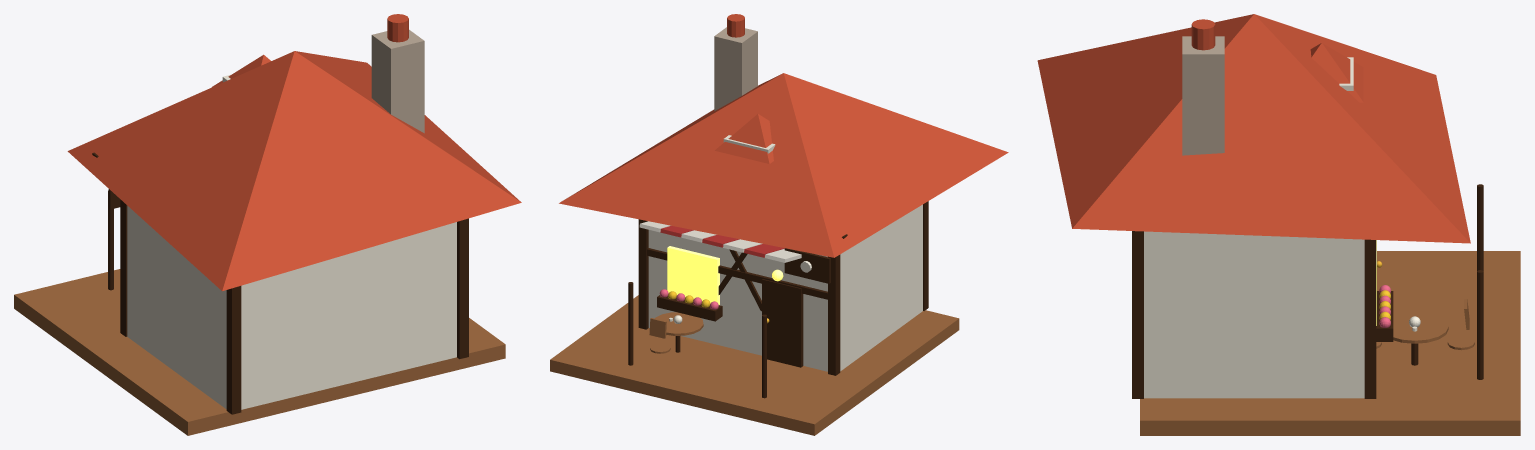
File: cafe.glb
The picture shows the model from 3 angles, left to right: view 1: azimuth 30°, elevation 25°; view 2: azimuth 150°, elevation 25°; view 3: azimuth 270°, elevation 25°; orthographic projection. The views are drawn at different scales.
Parts seen in each view (by area): view 1: CafeRoof, CafeBody, CafeDeck, ChimneyBody, CornerBeam_B_-3.4, CornerBeam_B_3.4, CornerBeam_-3.4, ChimneyPot, AwningPost_-2.4; view 2: CafeRoof, CafeDeck, CafeBody, FrontDoor, ChimneyBody, CafeWindow, DormerRoof, CornerBeam_-3.4, CornerBeam_3.4, CafeSignBoard, BeamMidFront, FlowerBox (+3 smaller); view 3: CafeRoof, CafeBody, CafeDeck, ChimneyBody, CornerBeam_3.4, CornerBeam_B_3.4, DormerRoof, BistroTableTop, AwningPost_2.4, ChimneyPot, AwningPost_-2.4, FlowerBox.
Boxes of the visible parts, x1,y1,x2,y2 form: CafeRoof: (67, 51, 521, 291); CafeBody: (127, 206, 456, 409); CafeDeck: (14, 269, 505, 435); ChimneyBody: (371, 29, 424, 133); CornerBeam_B_-3.4: (226, 286, 241, 414); CornerBeam_B_3.4: (457, 218, 468, 359); CornerBeam_-3.4: (120, 199, 127, 336); ChimneyPot: (387, 14, 408, 42); AwningPost_-2.4: (108, 190, 113, 290); CafeRoof: (559, 73, 1008, 257); CafeDeck: (550, 295, 959, 435); CafeBody: (648, 204, 922, 371); FrontDoor: (762, 279, 803, 367); ChimneyBody: (714, 27, 757, 110); CafeWindow: (667, 246, 719, 304); DormerRoof: (715, 114, 773, 163); CornerBeam_-3.4: (828, 254, 840, 375); CornerBeam_3.4: (638, 219, 648, 329); CafeSignBoard: (784, 248, 830, 283); BeamMidFront: (647, 248, 827, 299); FlowerBox: (657, 295, 722, 321); CafeRoof: (1037, 14, 1470, 243); CafeBody: (1144, 231, 1364, 398); CafeDeck: (1140, 251, 1520, 435); ChimneyBody: (1182, 36, 1224, 155); CornerBeam_3.4: (1364, 239, 1376, 398); CornerBeam_B_3.4: (1132, 231, 1143, 398); DormerRoof: (1310, 43, 1363, 102); BistroTableTop: (1393, 312, 1448, 343); AwningPost_2.4: (1477, 270, 1483, 379); ChimneyPot: (1191, 19, 1215, 50); AwningPost_-2.4: (1477, 184, 1483, 270); FlowerBox: (1376, 291, 1393, 341).
Size of the model in its own units: 10.25 by 9.65 by 11.43.
